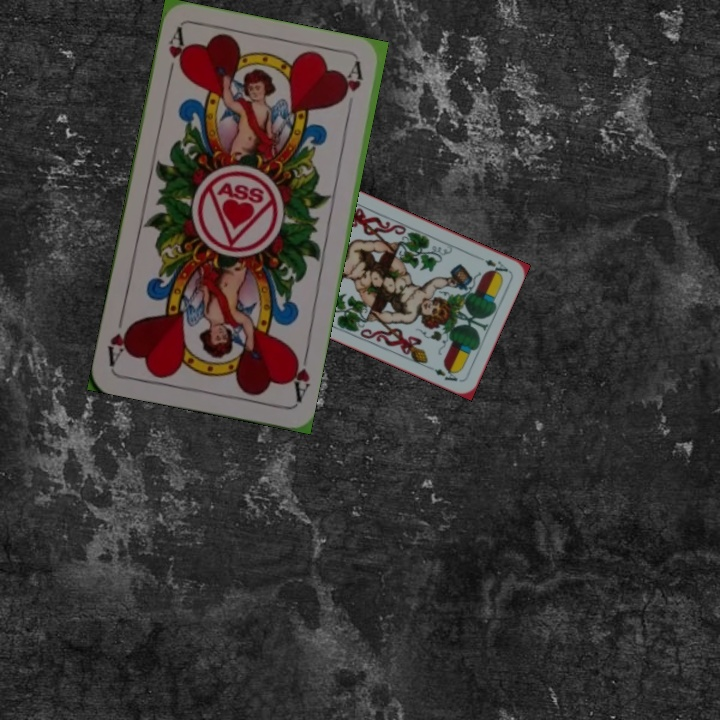EA: (480, 255, 511, 277)
HA: (285, 346, 313, 405), (163, 25, 190, 84)
